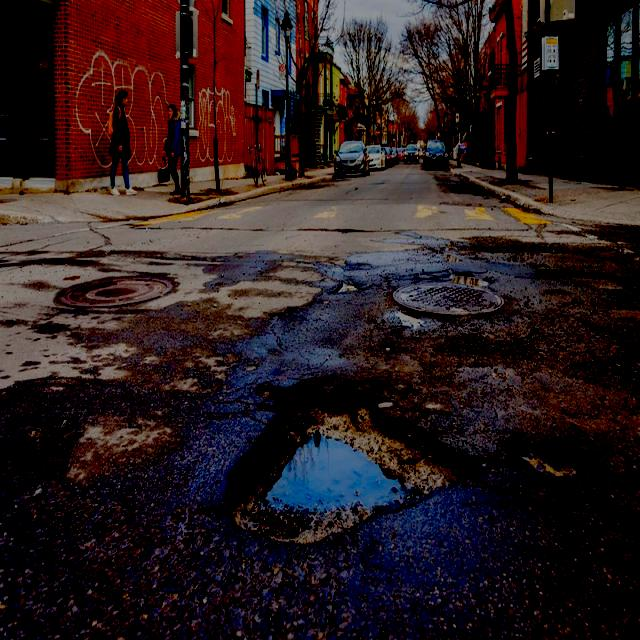Pothole: (202, 371, 640, 559), (7, 380, 141, 590), (323, 263, 640, 333), (385, 266, 512, 339), (57, 272, 176, 313)
